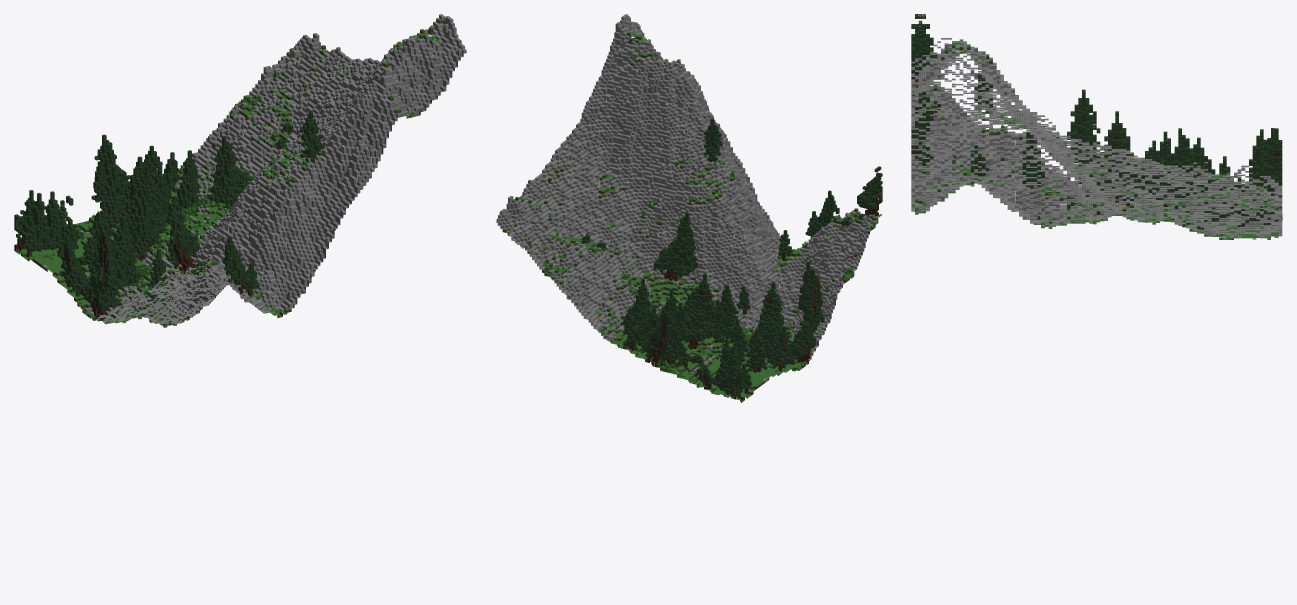
File: chunk1700--2100-lvl-1-transformed.glb
3 renders of one model, left to right at view 1: azimuth 30°, elevation 25°; view 2: azimuth 150°, elevation 25°; view 3: azimuth 270°, elevation 25°, orthographic. The views are drawn at different scales.
Parts seen in each view (by area): view 1: Cobblestone, Stone, Spruce_Leaves, Grass_Block, Spruce_Log, Dark_Oak_Wood, Grass; view 2: Cobblestone, Stone, Spruce_Leaves, Grass_Block, Spruce_Log, Dark_Oak_Wood, Grass; view 3: Stone, Cobblestone, Spruce_Leaves, Grass_Block, Spruce_Log.
Part boxes in pixels (left/top/right/bottom): Cobblestone: left=44, top=27, right=463, bottom=324; Stone: left=42, top=14, right=466, bottom=324; Spruce_Leaves: left=14, top=111, right=324, bottom=319; Grass_Block: left=16, top=19, right=441, bottom=327; Spruce_Log: left=14, top=129, right=289, bottom=320; Dark_Oak_Wood: left=27, top=133, right=316, bottom=295; Grass: left=16, top=65, right=422, bottom=324; Cobblestone: left=498, top=21, right=876, bottom=383; Stone: left=495, top=14, right=879, bottom=382; Spruce_Leaves: left=580, top=118, right=882, bottom=396; Grass_Block: left=502, top=25, right=882, bottom=401; Spruce_Log: left=642, top=188, right=881, bottom=400; Dark_Oak_Wood: left=627, top=142, right=831, bottom=393; Grass: left=523, top=53, right=852, bottom=401; Stone: left=911, top=38, right=1282, bottom=239; Cobblestone: left=911, top=39, right=1282, bottom=239; Spruce_Leaves: left=911, top=14, right=1282, bottom=234; Grass_Block: left=911, top=42, right=1282, bottom=239; Spruce_Log: left=911, top=47, right=1282, bottom=221.
Bounding box in the file's own units: 100 × 164 × 100.
32 materials, 32 textured.
